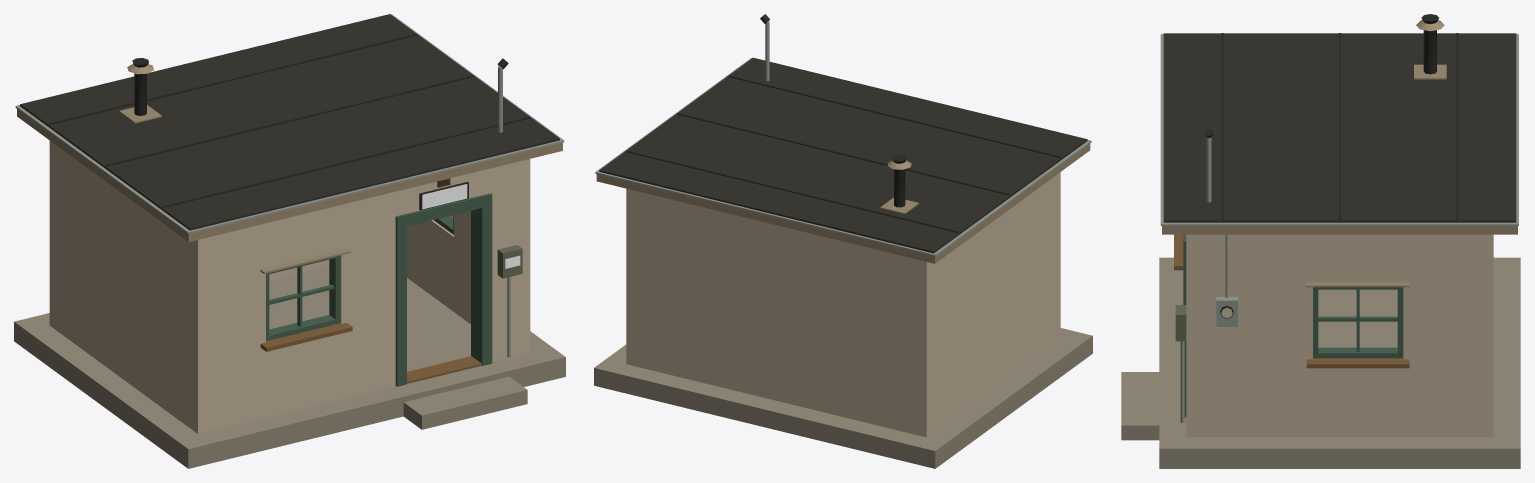
Rendered from SM_FieldStation_Hut_Shell_LOD2.fbx.
3 views of the same model, side by side, from view 1: azimuth 30°, elevation 25°; view 2: azimuth 150°, elevation 25°; view 3: azimuth 270°, elevation 25° (orthographic). The views are drawn at different scales.
Visible parts, largest first — view 1: SM_FieldStation_Hut_Shell_LOD2; view 2: SM_FieldStation_Hut_Shell_LOD2; view 3: SM_FieldStation_Hut_Shell_LOD2.
Part boxes in pixels (<box>): SM_FieldStation_Hut_Shell_LOD2: <box>14,14,565,468</box>; SM_FieldStation_Hut_Shell_LOD2: <box>594,14,1092,468</box>; SM_FieldStation_Hut_Shell_LOD2: <box>1121,14,1520,468</box>.
Size of the model in its own units: 5 by 4.42 by 3.92.
